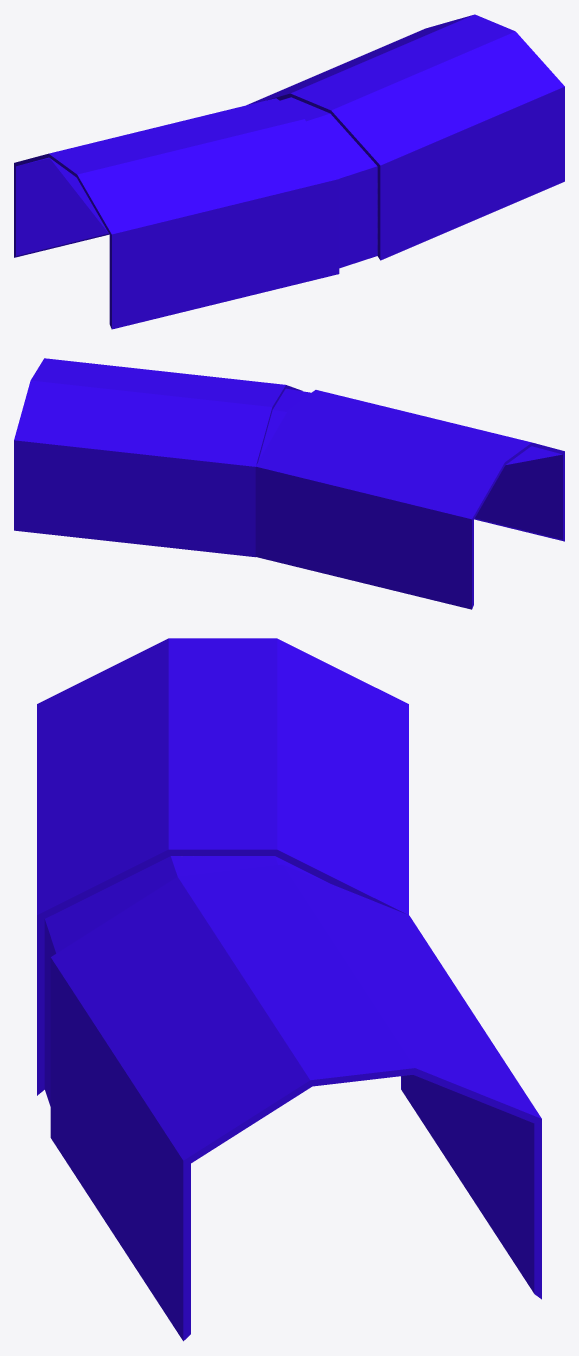
Rendered from tunnel.fbx.
3 views of the same model, one above another, from view 1: azimuth 30°, elevation 25°; view 2: azimuth 150°, elevation 25°; view 3: azimuth 270°, elevation 25° (orthographic). The views are drawn at different scales.
Visible parts, largest first — view 1: Cube.001; view 2: Cube.001; view 3: Cube.001.
Part boxes in pixels (x1,y1,x2,y2): Cube.001: [14, 14, 564, 329]; Cube.001: [14, 358, 564, 609]; Cube.001: [37, 638, 541, 1341].
Bounding box in the file's own units: 7856 × 1982 × 3677.
